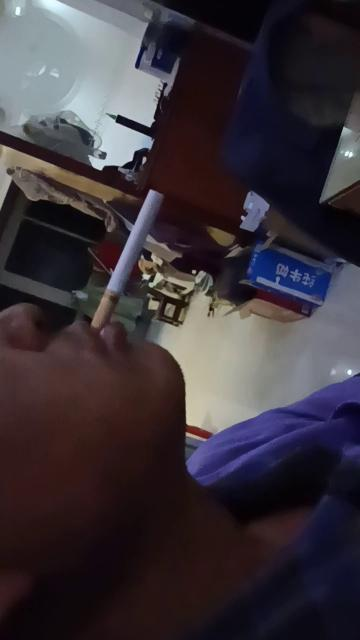Smoking: (92, 188, 165, 332)
